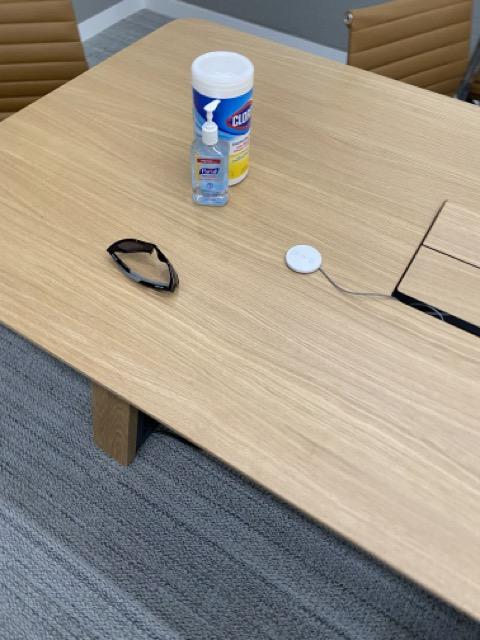Sunglasses: (105, 237, 180, 296)
